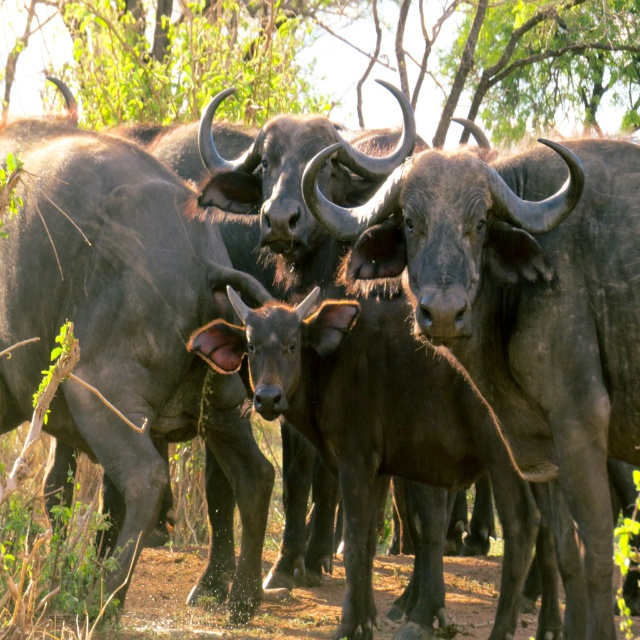Cattle: (0, 78, 640, 640)
